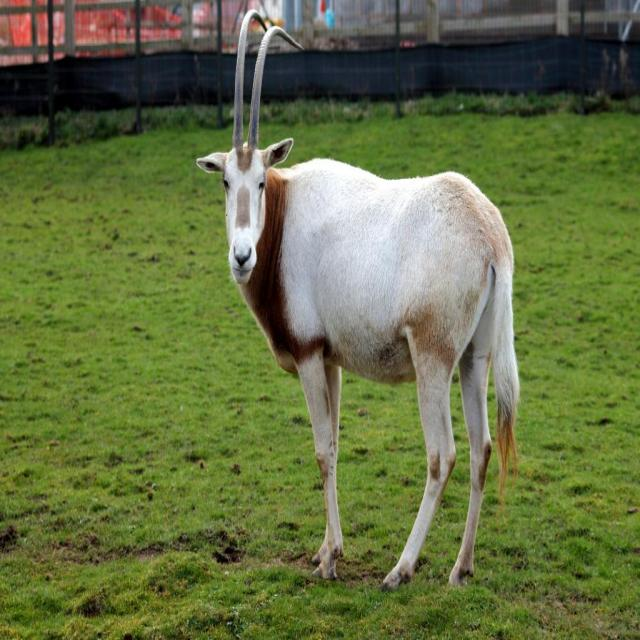Goat: (197, 10, 522, 587)
